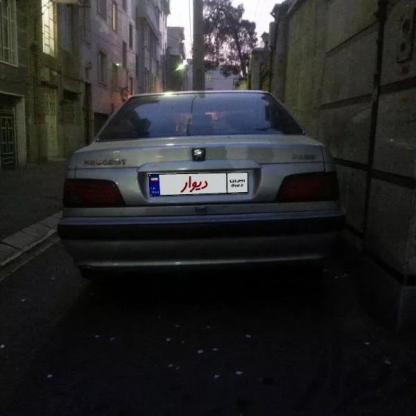Car: (50, 71, 339, 312)
